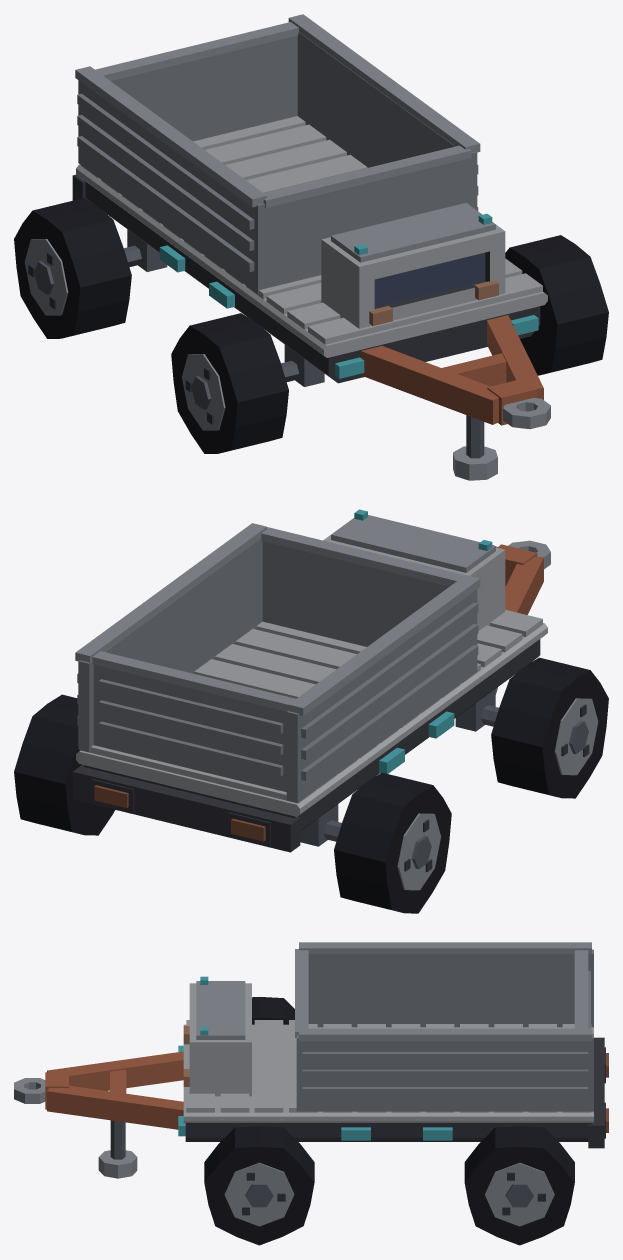
Rendered from cargo-trailer-66ea3c.glb.
The picture shows the model from 3 angles, top to bottom: view 1: azimuth 30°, elevation 25°; view 2: azimuth 150°, elevation 25°; view 3: azimuth 270°, elevation 25°; orthographic projection. The views are drawn at different scales.
Parts seen in each view (by area): view 1: cargo-trailer, control-pod, wheel-fl, wheel-rl, wheel-fr; view 2: cargo-trailer, wheel-fl, wheel-rl, wheel-rr, control-pod; view 3: cargo-trailer, wheel-rr, wheel-fr, control-pod, wheel-fl.
Part boxes in pixels (<box>): cargo-trailer: <box>72,14,550,480</box>; control-pod: <box>321,203,505,328</box>; wheel-fl: <box>171,313,288,453</box>; wheel-rl: <box>14,198,131,338</box>; wheel-fr: <box>505,235,608,375</box>; cargo-trailer: <box>72,523,550,852</box>; wheel-fl: <box>491,657,608,798</box>; wheel-rl: <box>334,772,451,913</box>; wheel-rr: <box>14,694,114,835</box>; control-pod: <box>323,509,505,630</box>; cargo-trailer: <box>14,942,608,1178</box>; wheel-rr: <box>464,1126,574,1245</box>; wheel-fr: <box>204,1126,314,1245</box>; control-pod: <box>183,976,251,1096</box>; wheel-fl: <box>252,997,294,1024</box>.
Size of the model in its own units: 2.45 by 1.35 by 4.
